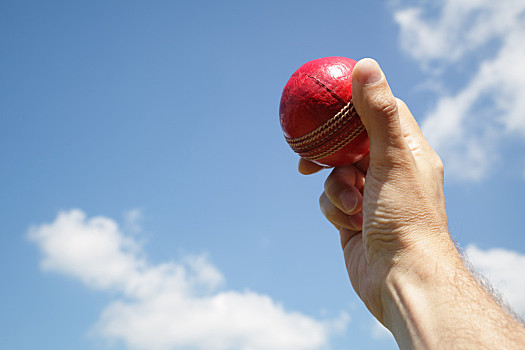no-phone: (276, 53, 466, 332)
